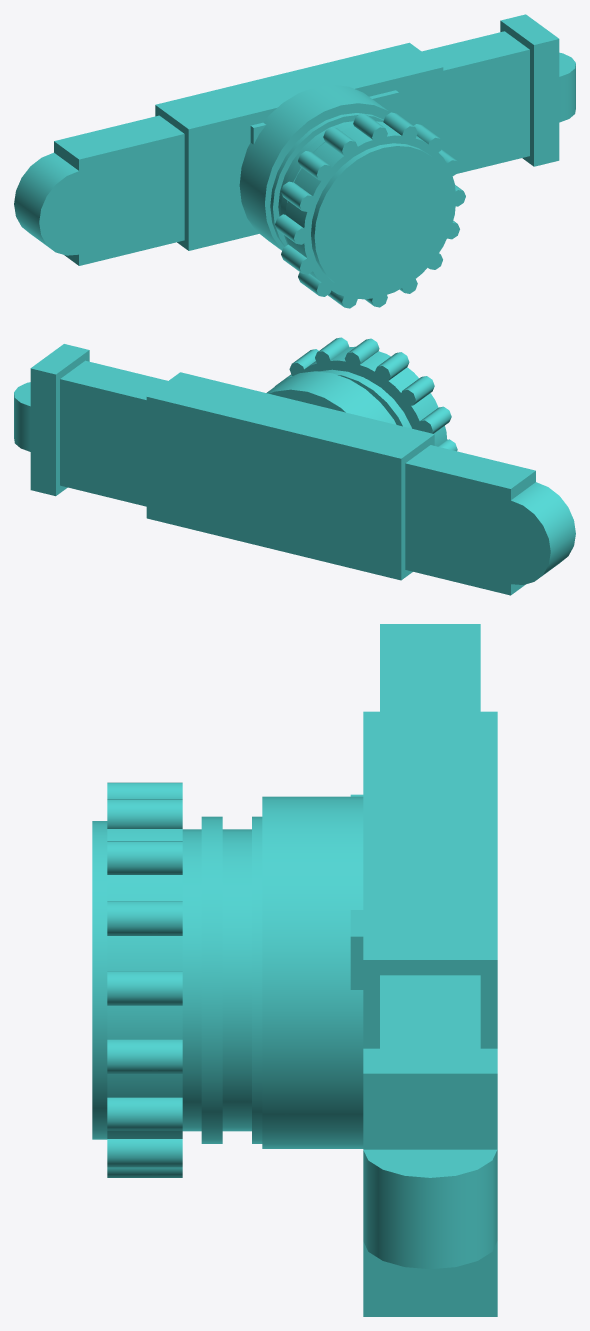
The model's file is clip_dispensador.glb.
The picture shows the model from 3 angles, top to bottom: view 1: azimuth 30°, elevation 25°; view 2: azimuth 150°, elevation 25°; view 3: azimuth 270°, elevation 25°; orthographic projection. The views are drawn at different scales.
Visible parts, largest first — view 1: ClipDispensadorHermetico; view 2: ClipDispensadorHermetico; view 3: ClipDispensadorHermetico.
Part boxes in pixels (x1,y1,x2,y2): ClipDispensadorHermetico: (14,14,575,308); ClipDispensadorHermetico: (14,337,575,595); ClipDispensadorHermetico: (92,624,497,1316).
Size of the model in its own units: 15 by 4.74 by 4.83.
